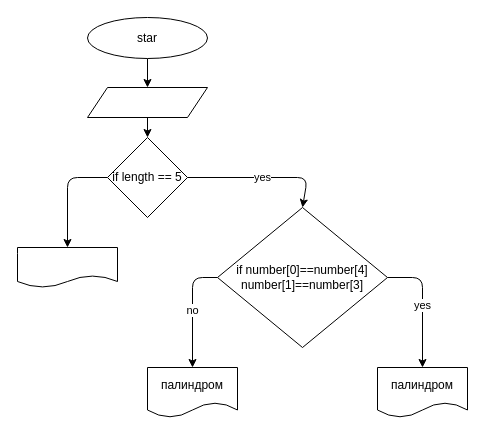
Image size: 485x435. Some labels were removed from this diagram. Here are the shapes that lost their labels. From the top down, the centre of each, then its label:
At (147,102): "number".
At (67,267): "неправильное число".
